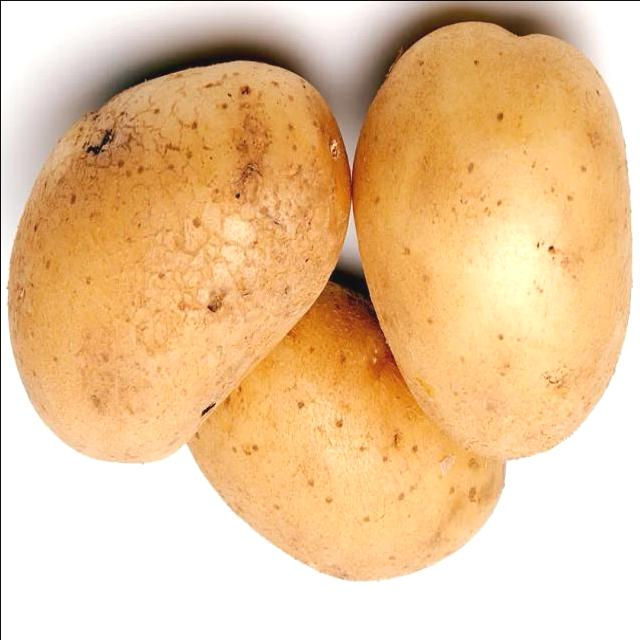potato: (9, 56, 351, 463), (354, 24, 631, 462), (185, 281, 504, 582)
